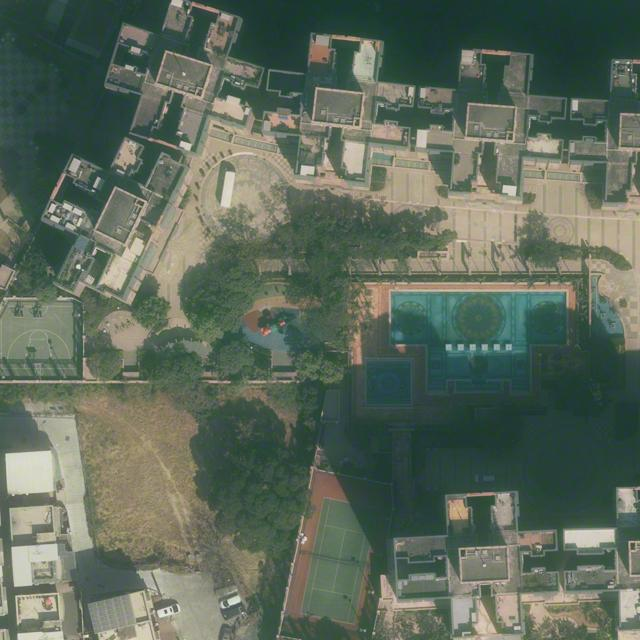panel: (87, 594, 136, 635)
